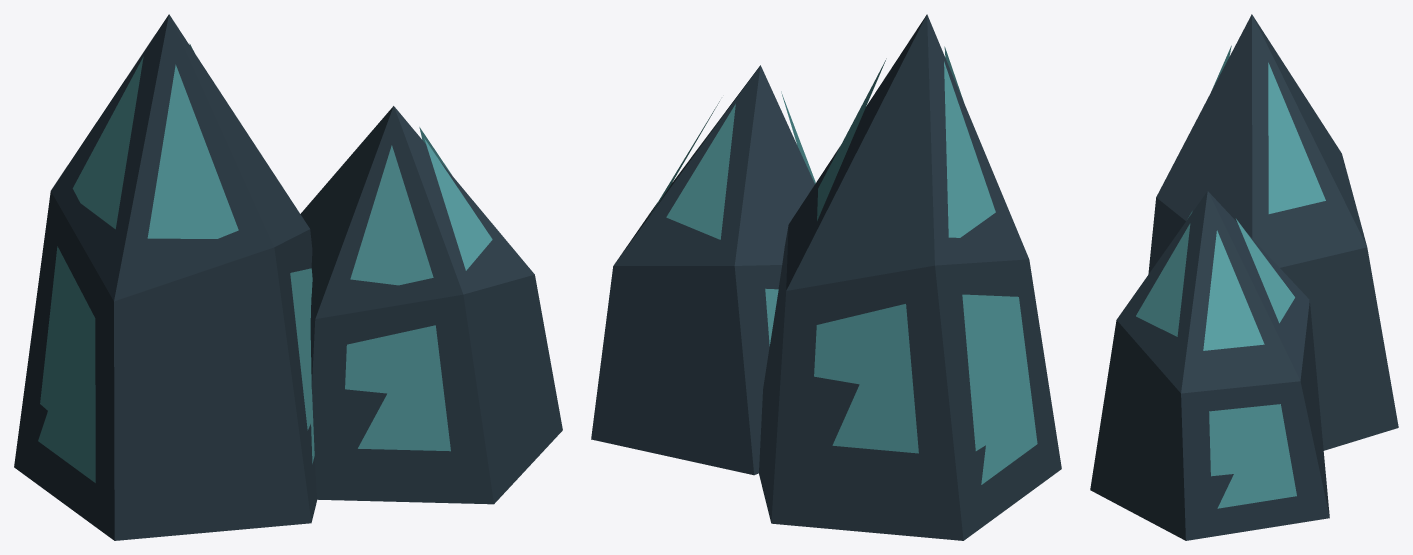
The picture shows the model from 3 angles, left to right: view 1: azimuth 30°, elevation 25°; view 2: azimuth 150°, elevation 25°; view 3: azimuth 270°, elevation 25°; orthographic projection. The views are drawn at different scales.
Visible parts, largest first — view 1: 41a0ea4834ebc597b74c322625d4b3fb4d4337c8b31ded8edc607916fcb6; view 2: 41a0ea4834ebc597b74c322625d4b3fb4d4337c8b31ded8edc607916fcb6; view 3: 41a0ea4834ebc597b74c322625d4b3fb4d4337c8b31ded8edc607916fcb6.
Part boxes in pixels (x1,y1,x2,y2): 41a0ea4834ebc597b74c322625d4b3fb4d4337c8b31ded8edc607916fcb6: (14,14,562,540); 41a0ea4834ebc597b74c322625d4b3fb4d4337c8b31ded8edc607916fcb6: (591,14,1061,540); 41a0ea4834ebc597b74c322625d4b3fb4d4337c8b31ded8edc607916fcb6: (1090,14,1398,540).
Bounding box in the file's own units: 0.9403 × 0.945 × 0.6845.
